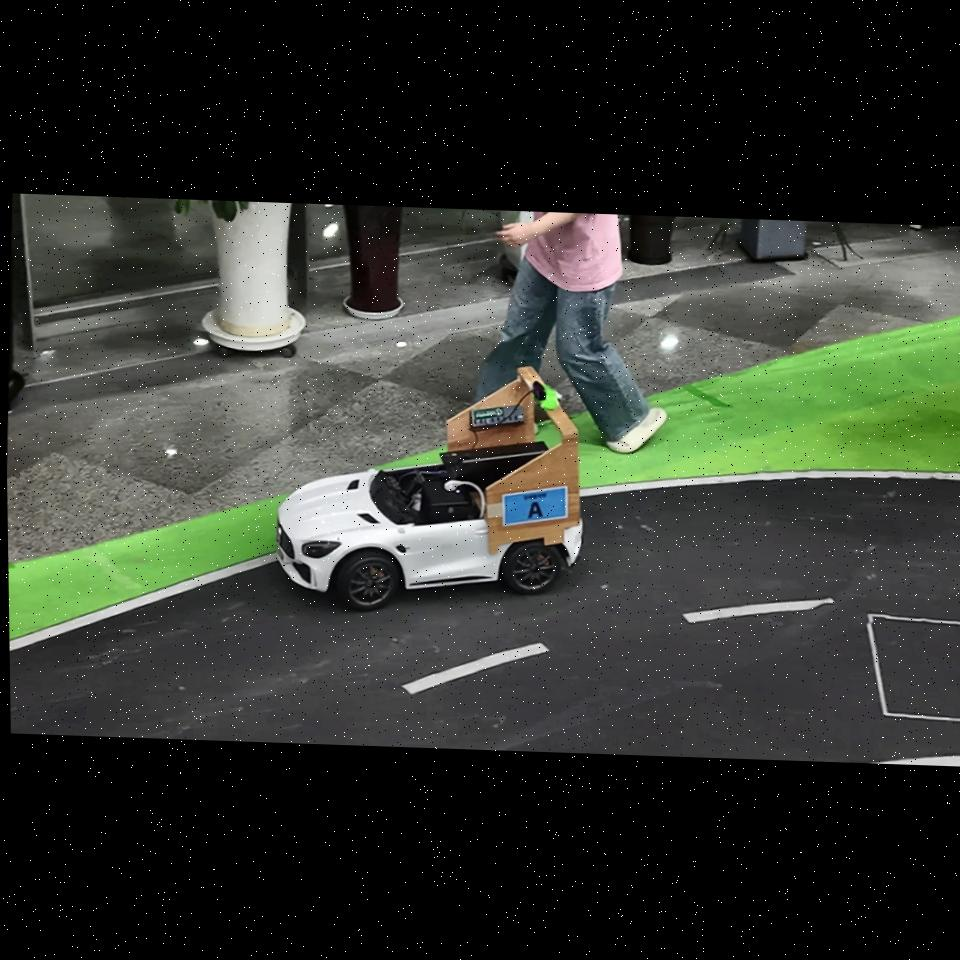broken_line: (402, 643, 549, 694), (683, 597, 835, 623)
